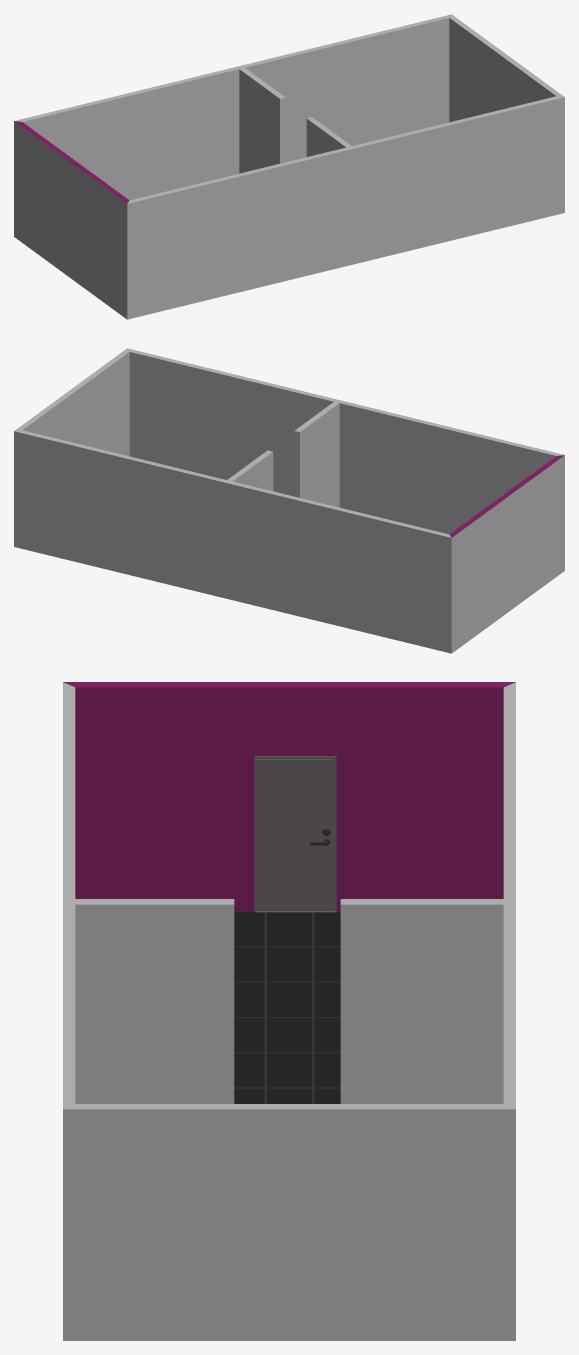
Rendered from Huonnet_mut_ovi.fbx.
3 renders of one model, top to bottom at view 1: azimuth 30°, elevation 25°; view 2: azimuth 150°, elevation 25°; view 3: azimuth 270°, elevation 25°, orthographic. The views are drawn at different scales.
Parts seen in each view (by area): view 1: Seinät; view 2: Seinät; view 3: Seinät.
Boxes of the visible parts, x1=… form: Seinät: x1=14, y1=14, x2=564, y2=319; Seinät: x1=14, y1=348, x2=564, y2=653; Seinät: x1=63, y1=682, x2=515, y2=1340.
Size of the model in its own units: 2222 by 561 by 996.
